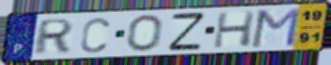C: (78, 16, 112, 55)
H: (211, 10, 257, 50)
M: (248, 7, 303, 49)
O: (126, 13, 164, 53)
R: (31, 17, 77, 56)
Z: (167, 11, 207, 52)
